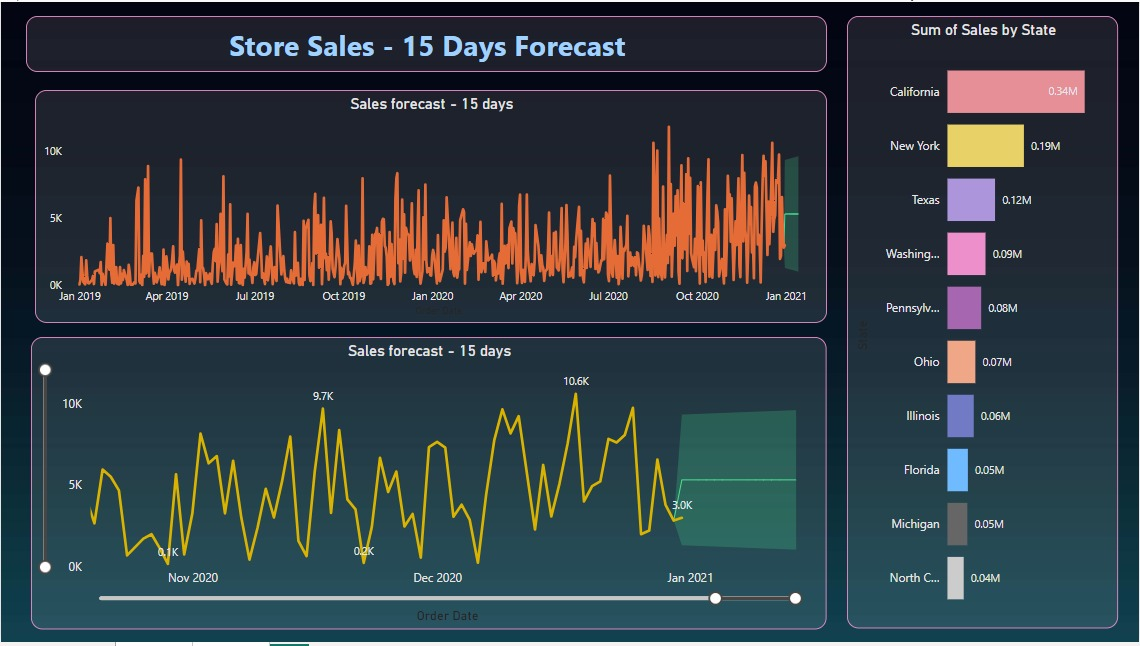

Layout of this report page (visuals, bound fields, positions):
{"tool":"powerbi","page":{"name":"Page 2","canvas":[1280,720],"ordinal":1},"visuals":[{"type":"lineChart","title":"Sales forecast - 15 days","fields":{"Y":["Sum(SuperStore_Sales_Dataset.Sales)"],"Category":["SuperStore_Sales_Dataset.Order Date"]},"box":[38.2,98.7,890.8,261.8],"z":0},{"type":"lineChart","title":"Sales forecast - 15 days","fields":{"Y":["Sum(SuperStore_Sales_Dataset.Sales)"],"Category":["SuperStore_Sales_Dataset.Order Date"]},"box":[34.2,376.3,894.7,328.9],"z":1000},{"type":"textbox","box":[27.6,15.8,901.3,63.2],"z":2000},{"type":"barChart","fields":{"Category":["SuperStore_Sales_Dataset.State"],"Y":["Sum(SuperStore_Sales_Dataset.Sales)"]},"box":[951.3,15.8,305.3,689.5],"z":3000}]}

Visuals, with their boxes in screenshot pixels (x1, y1, x2, y2), scaled from the page's 1280x720 canvas onto the 1140x646 screenshot:
"Sales forecast - 15 days" lineChart: [34, 89, 827, 323]
"Sales forecast - 15 days" lineChart: [30, 338, 827, 633]
textbox: [25, 14, 827, 71]
barChart - SuperStore_Sales_Dataset.State x Sum(SuperStore_Sales_Dataset.Sales): [847, 14, 1119, 633]
